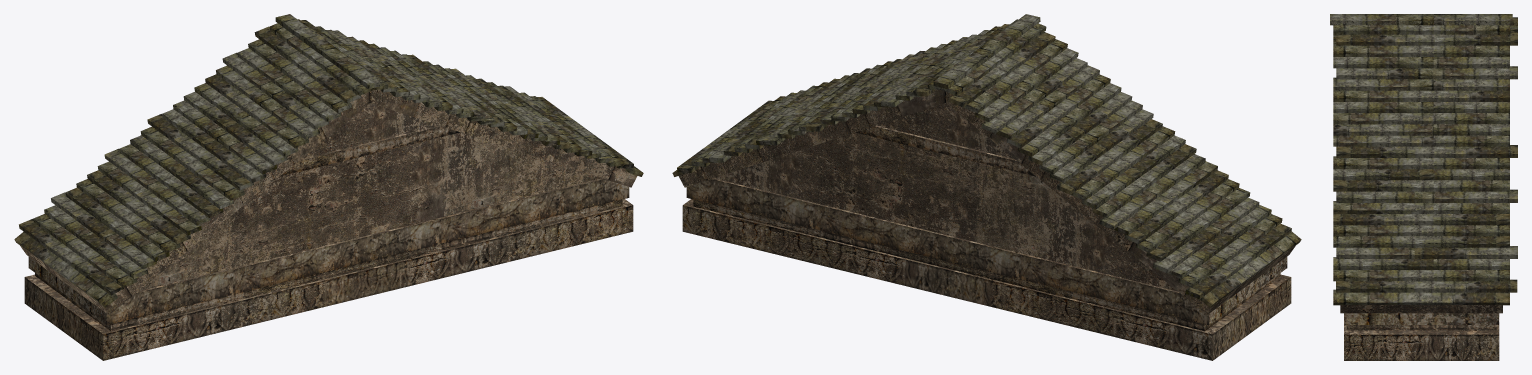
Rendered from materials_5_roof_9.fbx.
The picture shows the model from 3 angles, left to right: view 1: azimuth 30°, elevation 25°; view 2: azimuth 150°, elevation 25°; view 3: azimuth 270°, elevation 25°; orthographic projection.
Visible parts, largest first — view 1: materials_5_roof_9; view 2: materials_5_roof_9; view 3: materials_5_roof_9.
Part boxes in pixels (x1=…): materials_5_roof_9: x1=14, y1=14, x2=643, y2=360; materials_5_roof_9: x1=672, y1=14, x2=1301, y2=360; materials_5_roof_9: x1=1330, y1=14, x2=1517, y2=360.
Bounding box in the file's own units: 620 × 239 × 189.
